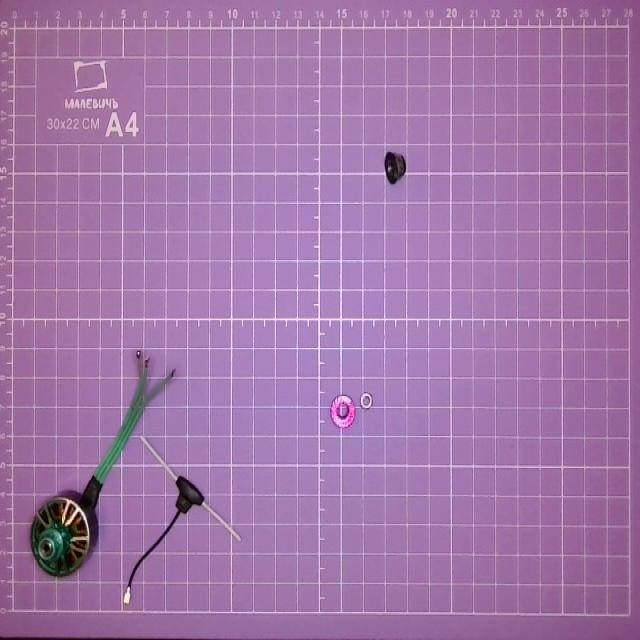antenna: (122, 432, 243, 606)
motor: (30, 344, 179, 576)
screw_M3: (359, 380, 374, 414)
screw_M5: (376, 147, 409, 187), (326, 391, 356, 433)
